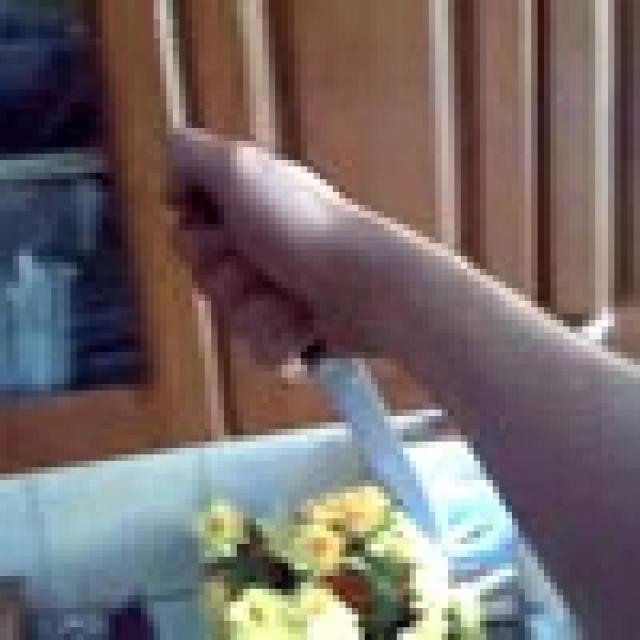Knife: (300, 346, 442, 544)
